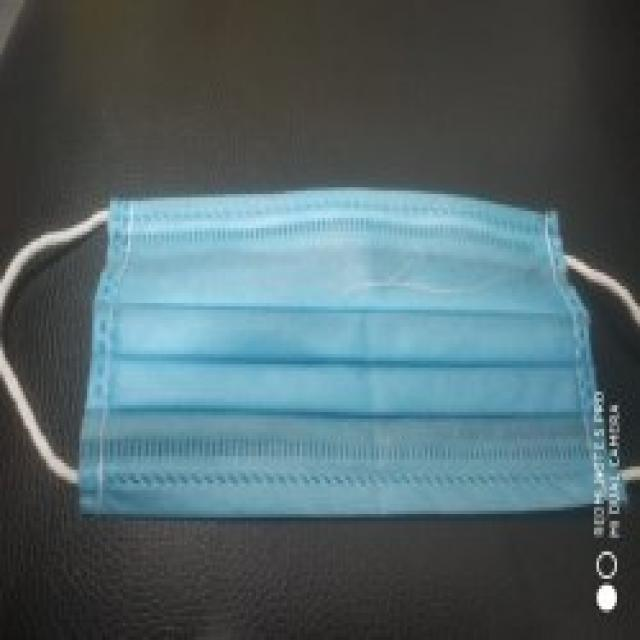face mask: (13, 188, 635, 518)
